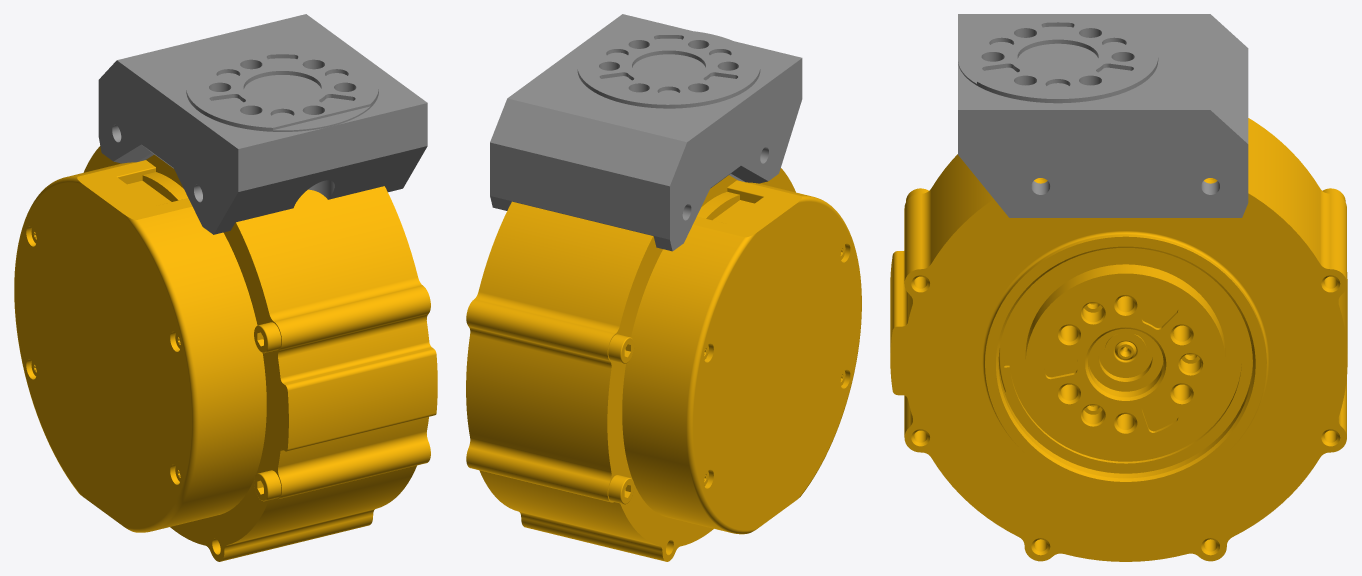
Rendered from Yaw_L.dae.
3 views of the same model, side by side, from view 1: azimuth 30°, elevation 25°; view 2: azimuth 150°, elevation 25°; view 3: azimuth 270°, elevation 25° (orthographic). The views are drawn at different scales.
Parts seen in each view (by area): view 1: Yaw_L; view 2: Yaw_L; view 3: Yaw_L.
Part boxes in pixels (left/top/right/bottom): Yaw_L: left=14, top=14, right=437, bottom=561; Yaw_L: left=466, top=14, right=861, bottom=561; Yaw_L: left=890, top=14, right=1347, bottom=561.
Bounding box in the file's own units: 0.054 × 0.0845 × 0.0953.
